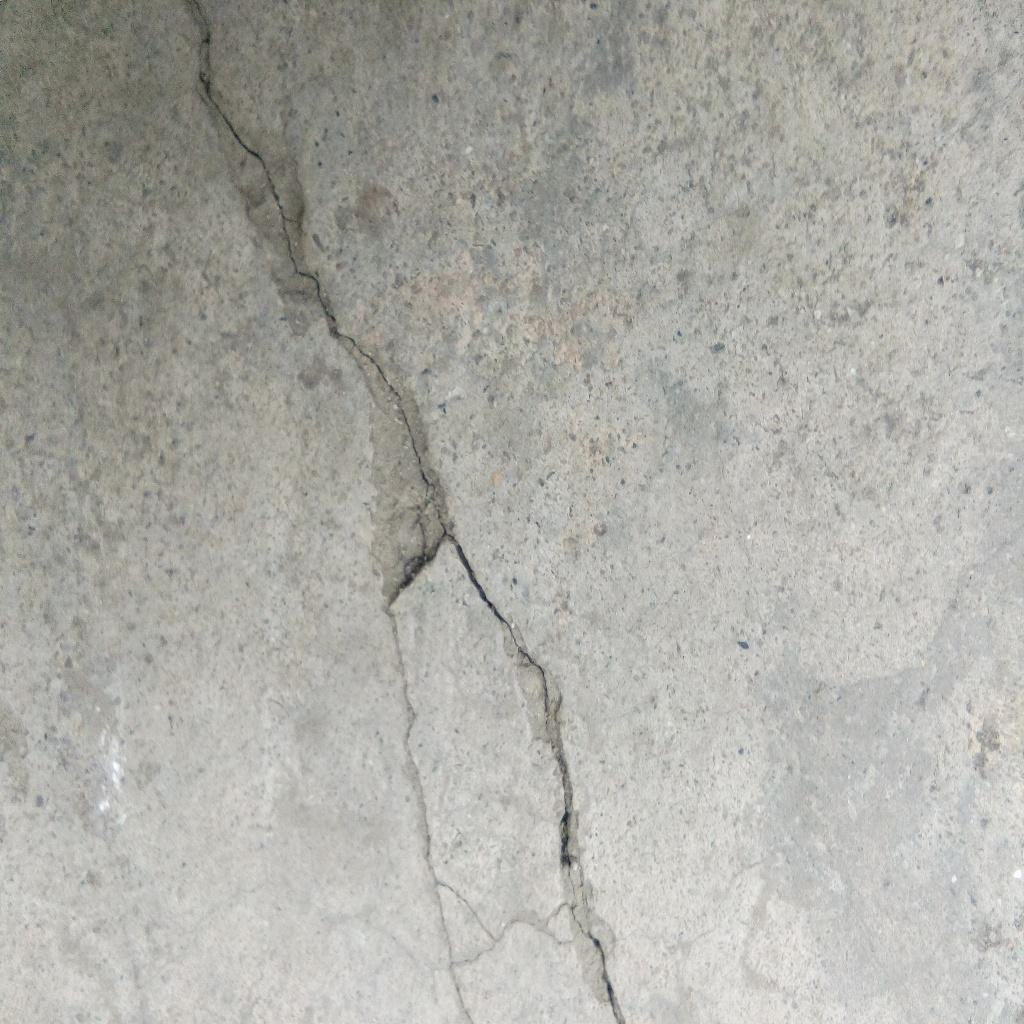Crack: (185, 1, 627, 1024)
